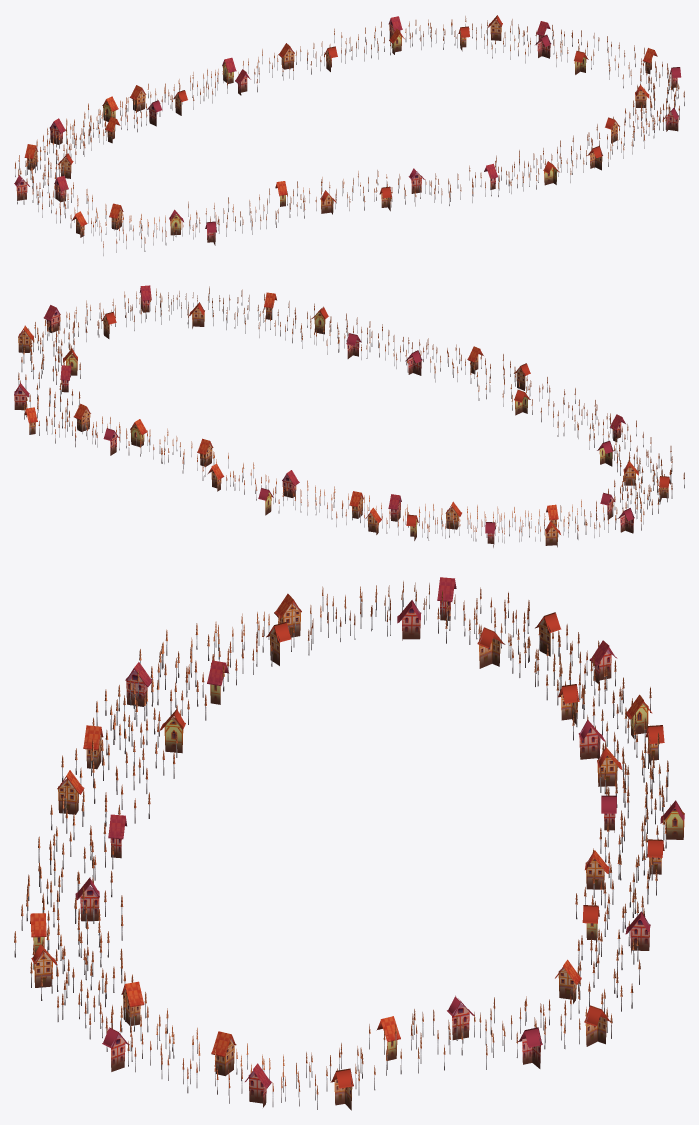
Rendered from track4.FBX.
3 renders of one model, top to bottom at view 1: azimuth 30°, elevation 25°; view 2: azimuth 150°, elevation 25°; view 3: azimuth 270°, elevation 25°, orthographic. The views are drawn at different scales.
Bounding box in the file's own units: 973779 × 70504 × 542676.
